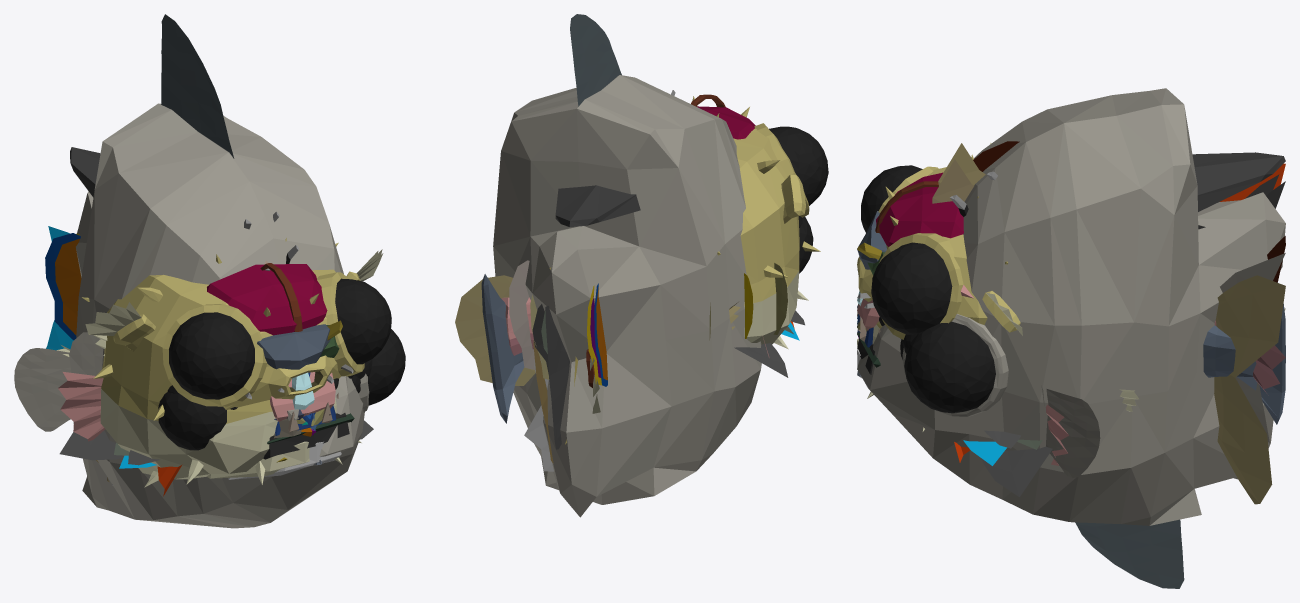
Rendered from quaternius-cute-fish.glb.
The picture shows the model from 3 angles, left to right: view 1: azimuth 30°, elevation 25°; view 2: azimuth 150°, elevation 25°; view 3: azimuth 270°, elevation 25°; orthographic projection. The views are drawn at different scales.
Parts seen in each view (by area): view 1: sunfish, puffer, flowerhorn, goblin, blobfish, mandarin, angler, butterfly, idol, goldfish, catfish, parrot (+3 smaller); view 2: sunfish, puffer, goblin, flowerhorn, idol, swordfish, tetra, lionfish-black, mandarin, angler, gramma, lionfish (+1 smaller); view 3: sunfish, puffer, goldfish, goblin, idol, flowerhorn, blobfish, butterfly, koi, flatfish, angler, betta (+1 smaller).
Part boxes in pixels (x1,y1,x2,y2): sunfish: (14, 14, 405, 528); puffer: (82, 238, 391, 487); flowerhorn: (207, 264, 327, 420); goblin: (59, 324, 373, 460); blobfish: (58, 359, 372, 441); mandarin: (45, 233, 312, 436); angler: (57, 263, 314, 409); butterfly: (69, 332, 298, 420); idol: (70, 147, 324, 479); goldfish: (206, 375, 353, 478); catfish: (263, 413, 349, 459); parrot: (46, 226, 307, 468); sunfish: (493, 14, 813, 517); puffer: (692, 96, 828, 349); goblin: (481, 274, 788, 423); flowerhorn: (455, 106, 755, 385); idol: (555, 185, 802, 334); swordfish: (545, 306, 569, 449); tetra: (509, 260, 534, 369); lionfish-black: (524, 90, 675, 471); mandarin: (594, 283, 607, 386); angler: (585, 94, 725, 413); gramma: (587, 285, 602, 385); lionfish: (533, 340, 553, 463); sunfish: (857, 88, 1285, 588); puffer: (857, 143, 1022, 431); goldfish: (857, 143, 1285, 504); goblin: (857, 211, 1285, 496); idol: (857, 152, 1285, 331); flowerhorn: (857, 172, 963, 307); blobfish: (857, 285, 1285, 465); butterfly: (857, 253, 1285, 443); koi: (857, 159, 973, 389); flatfish: (857, 141, 1285, 331); angler: (857, 181, 1285, 411); betta: (857, 163, 1285, 462).
Bounding box in the file's own units: 0.886 × 1.53 × 1.
